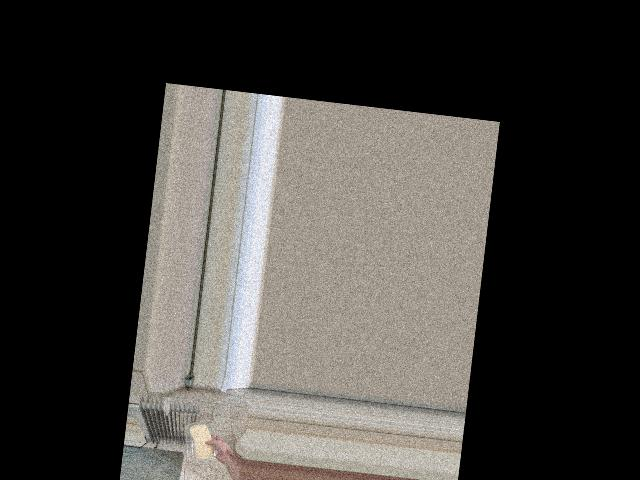cheese: (185, 418, 218, 462)
